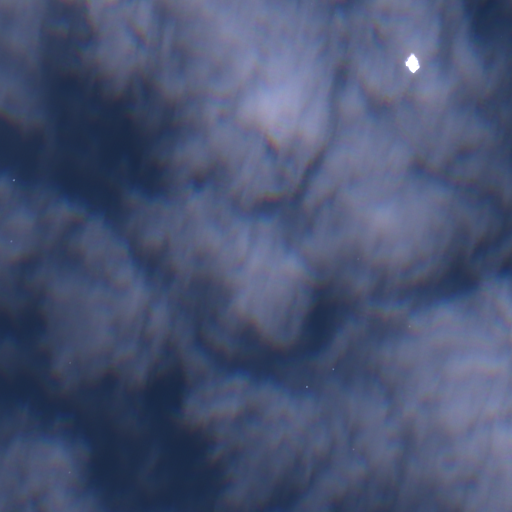Iceberg: (405, 53, 420, 72), (10, 240, 12, 242), (13, 179, 14, 180), (332, 368, 333, 369), (306, 386, 307, 387)
